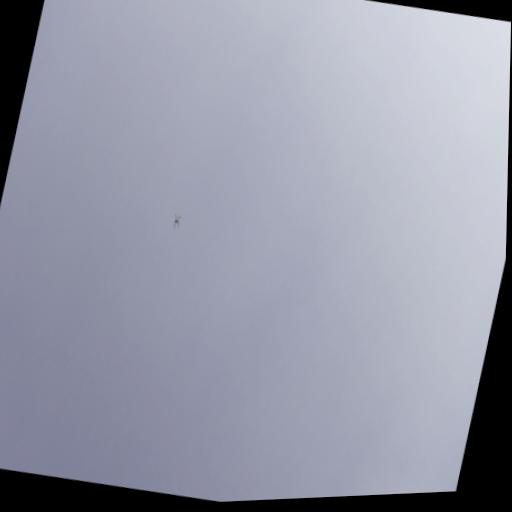drones: (169, 211, 184, 233)
